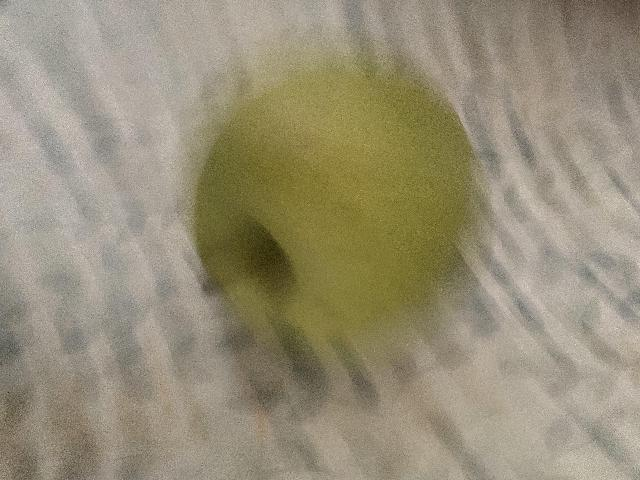Organik: (203, 65, 483, 333)
